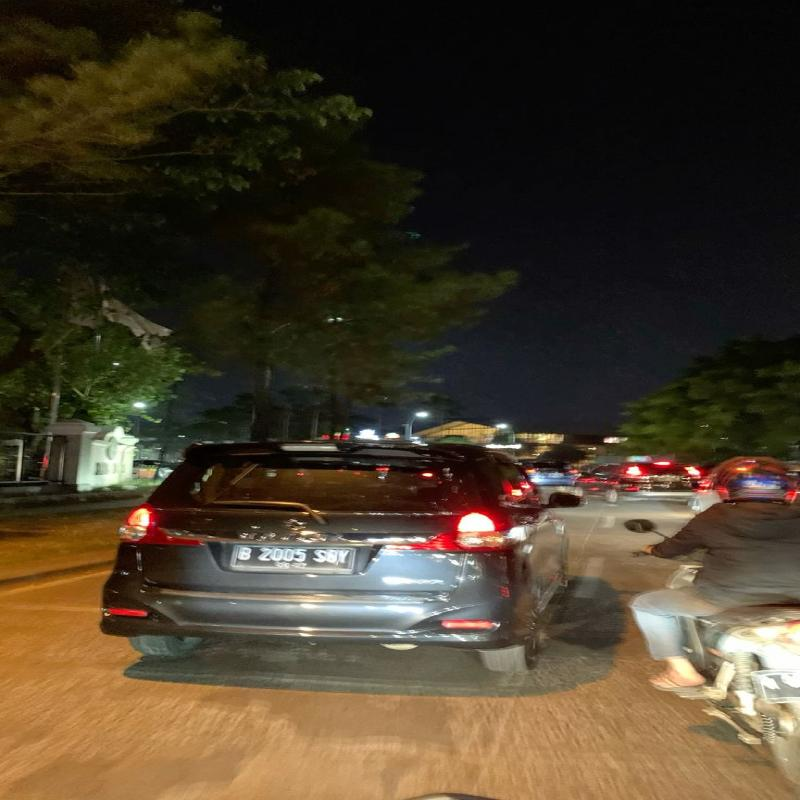license plate on a car: (231, 545, 355, 573), (752, 670, 799, 702)
